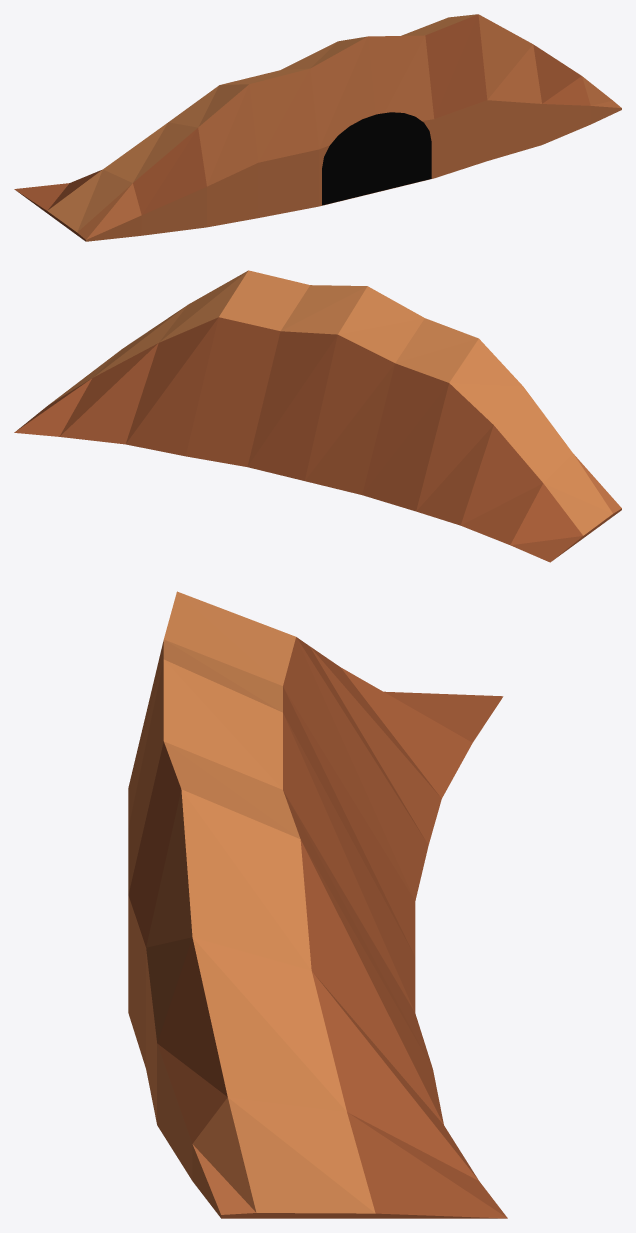
Rendered from cave_portal.obj.
3 views of the same model, one above another, from view 1: azimuth 30°, elevation 25°; view 2: azimuth 150°, elevation 25°; view 3: azimuth 270°, elevation 25° (orthographic). The views are drawn at different scales.
Visible parts, largest first — view 1: Desert_Ridge; view 2: Desert_Ridge; view 3: Desert_Ridge.
Part boxes in pixels (x1=…): Desert_Ridge: x1=14, y1=14, x2=621, y2=241; Desert_Ridge: x1=14, y1=270, x2=621, y2=562; Desert_Ridge: x1=128, y1=591, x2=507, y2=1218.
Bounding box in the file's own units: 56 × 14.9 × 17.23.
